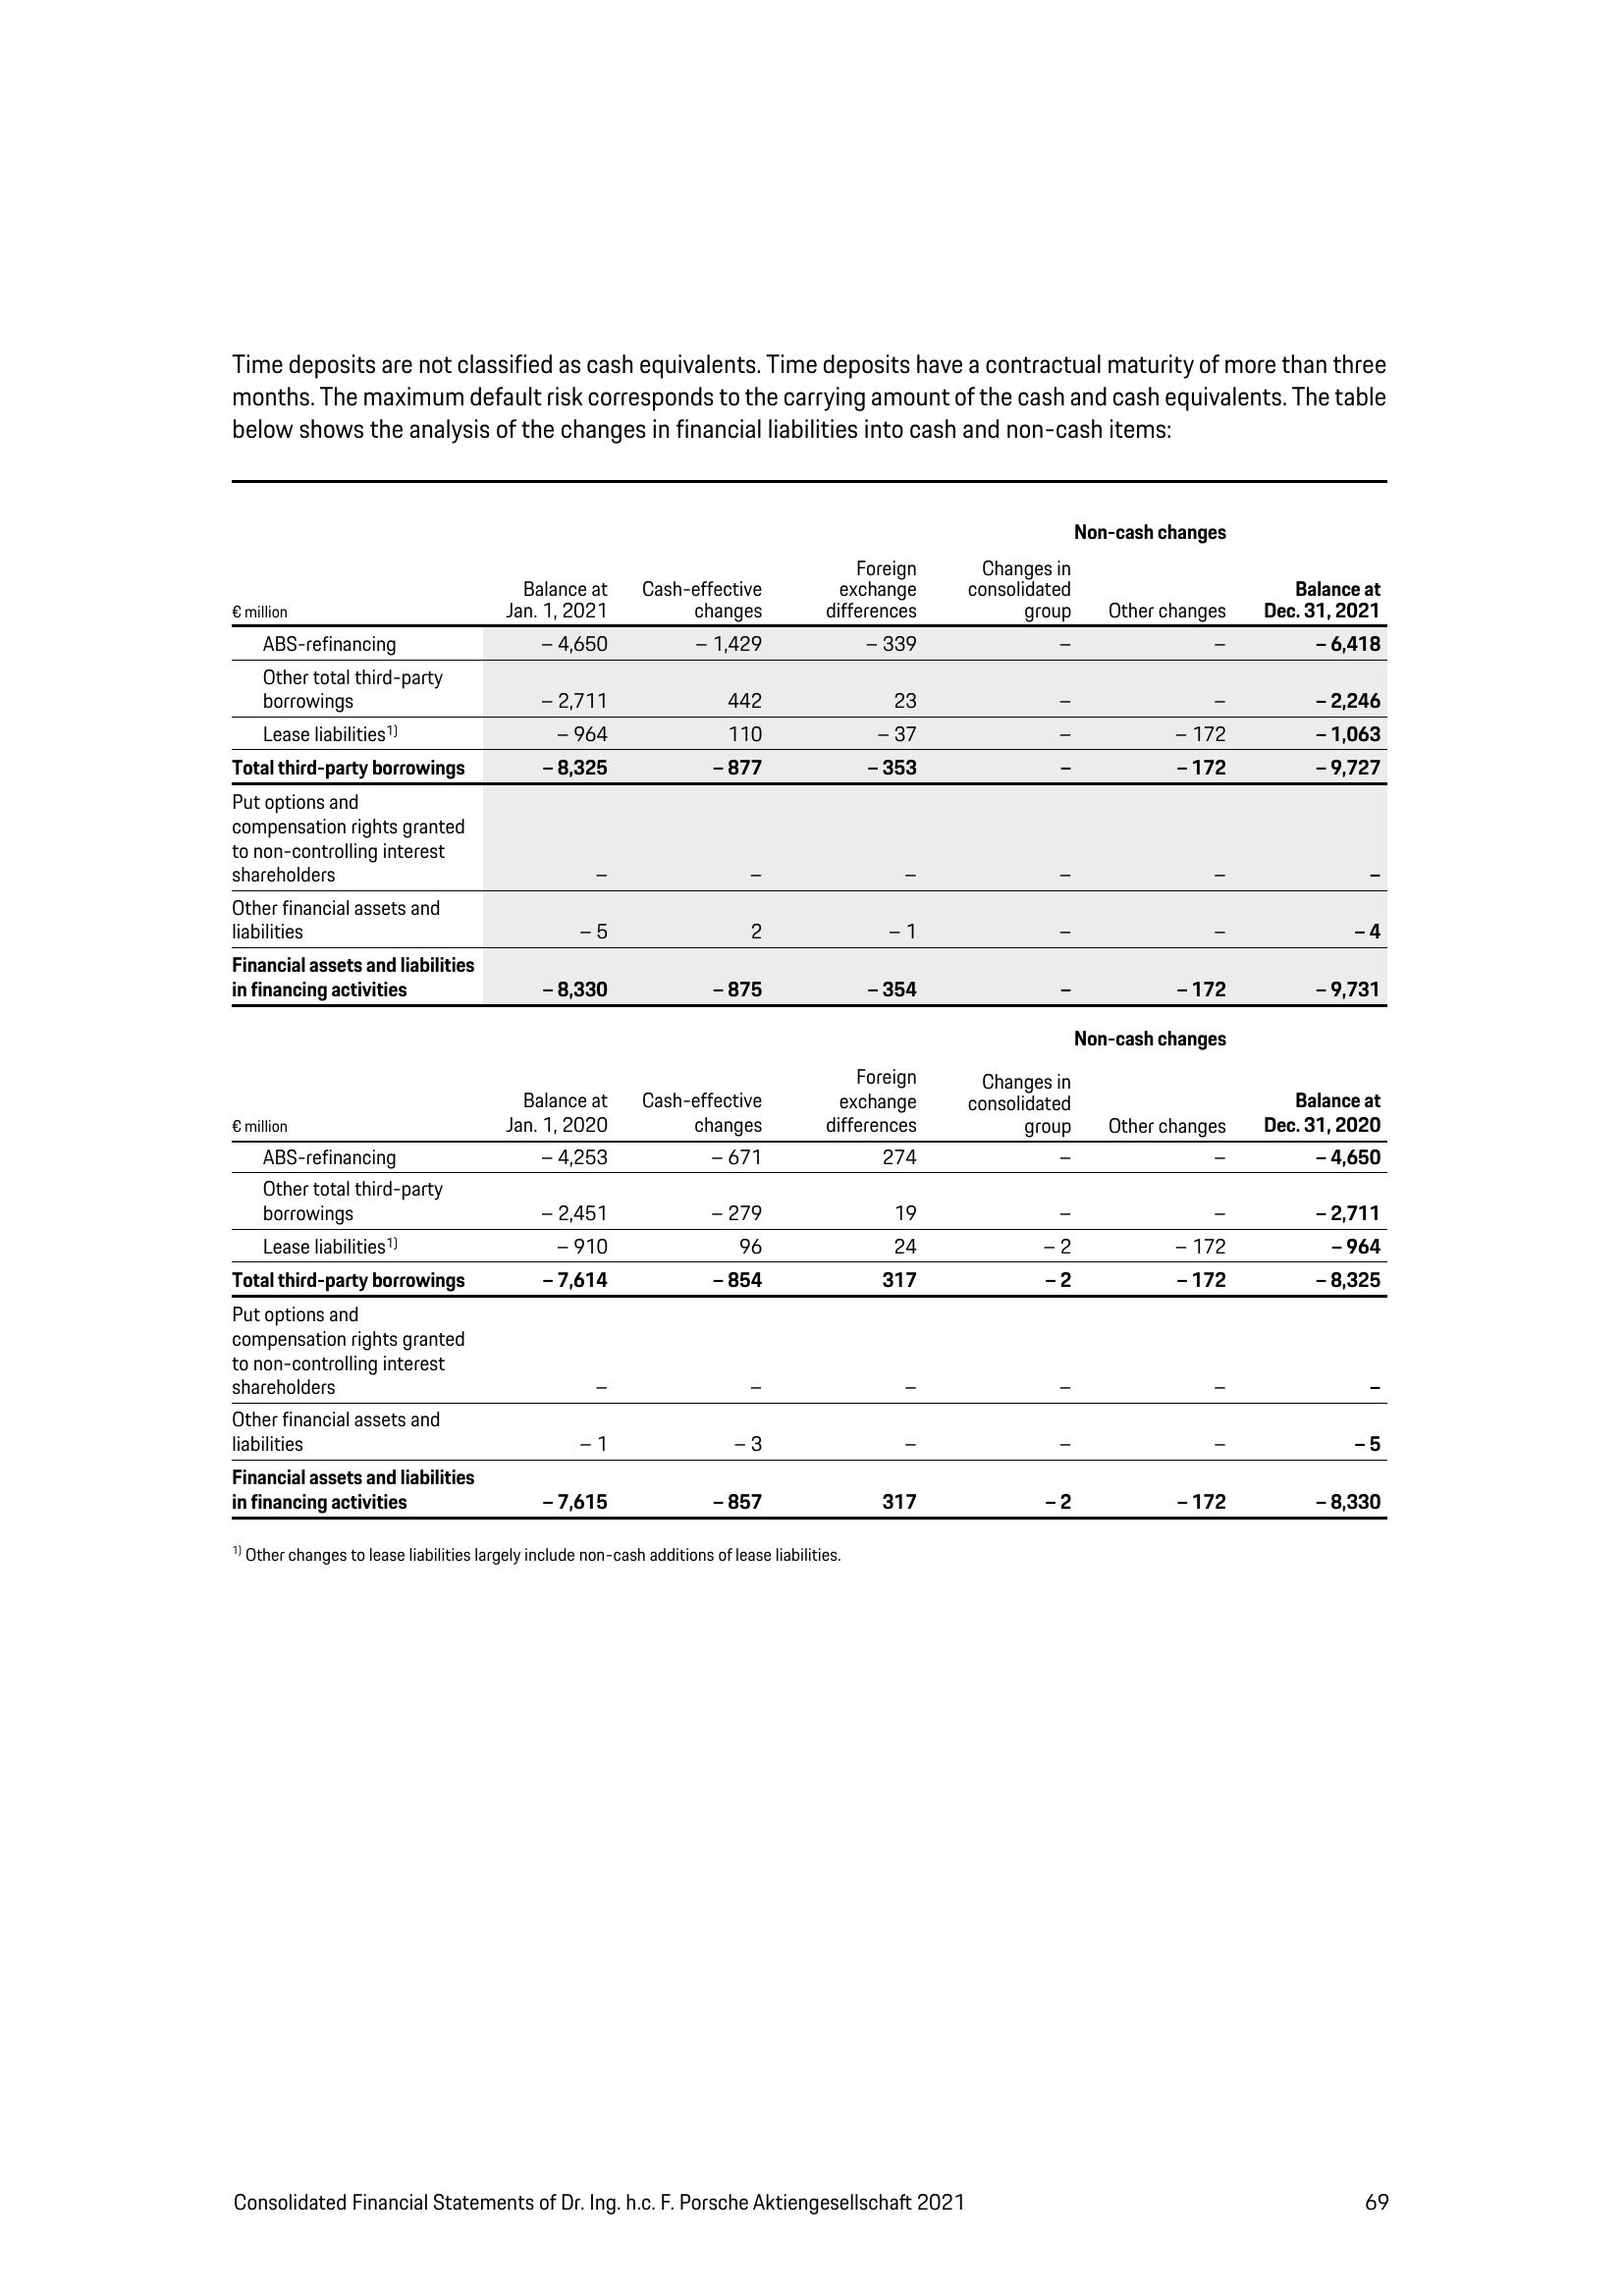Footer: (0, 2152, 1624, 2296)
Header: (0, 0, 1624, 223)
Table: (167, 497, 1408, 1012), (167, 1061, 1408, 1521)
